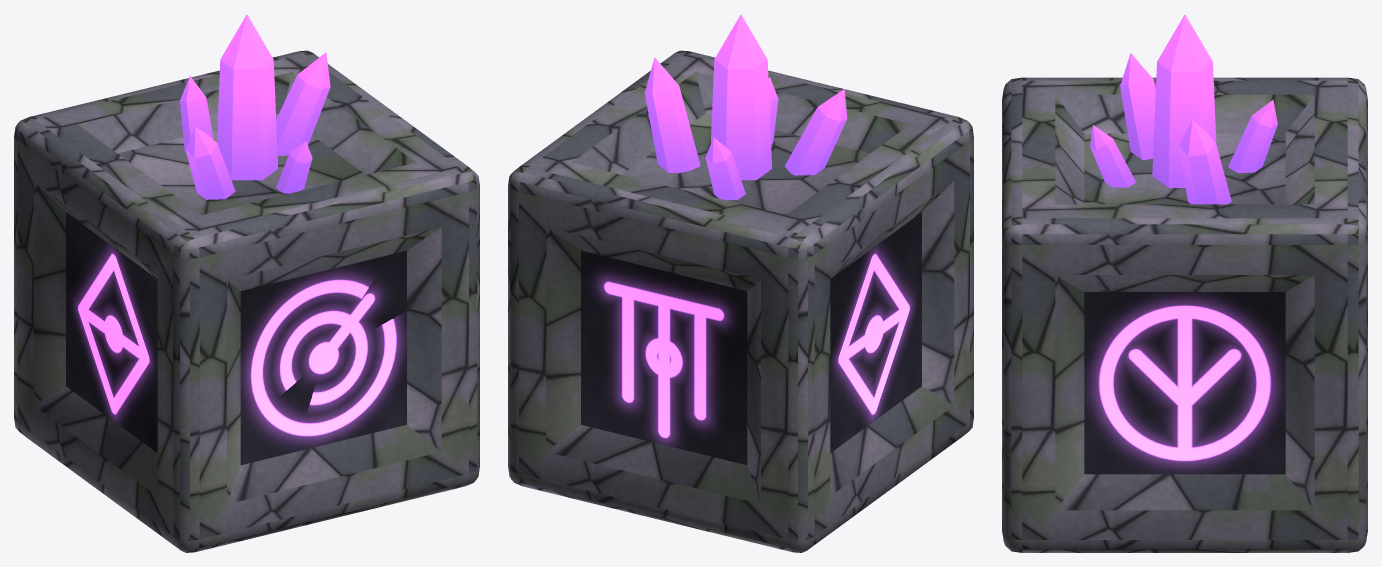
The model's file is SM_RuneBlock.glb.
3 views of the same model, side by side, from view 1: azimuth 30°, elevation 25°; view 2: azimuth 150°, elevation 25°; view 3: azimuth 270°, elevation 25° (orthographic). The views are drawn at different scales.
Parts seen in each view (by area): view 1: SM_RuneBlock; view 2: SM_RuneBlock; view 3: SM_RuneBlock.
Boxes of the visible parts, x1,y1,x2,y2 form: SM_RuneBlock: (14,14,479,552); SM_RuneBlock: (508,14,973,552); SM_RuneBlock: (1002,14,1367,552).
Size of the model in its own units: 10 by 14.09 by 10.
Materials: 3 (3 with a texture image).
